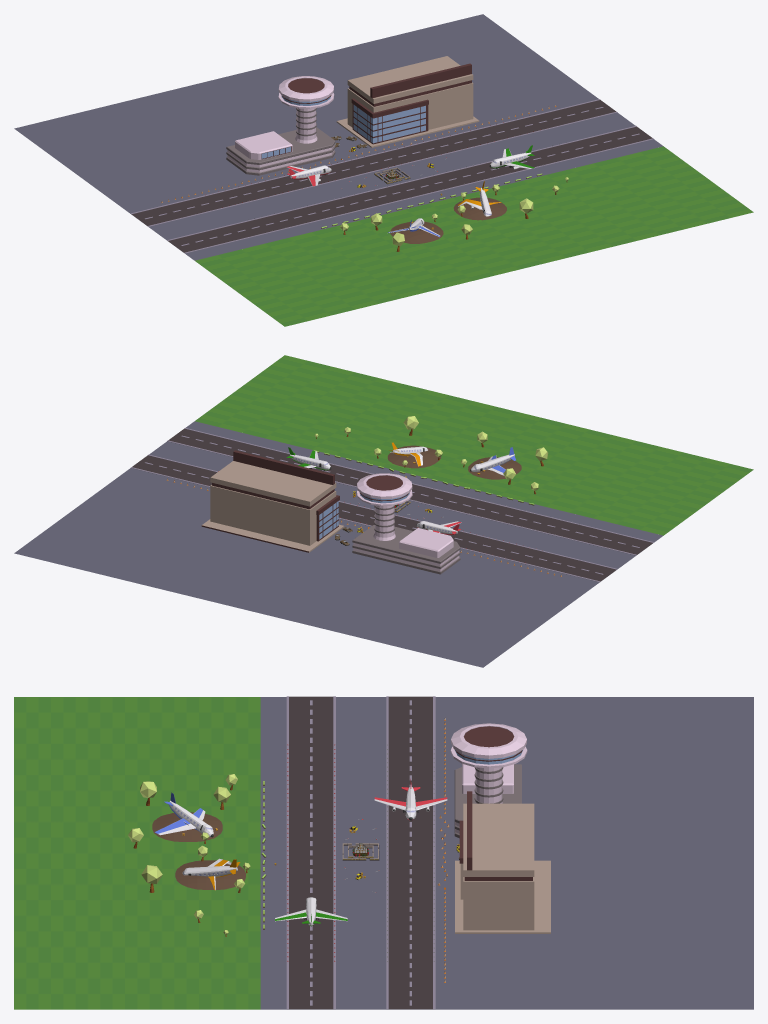
File: airport 1.fbx
The picture shows the model from 3 angles, top to bottom: view 1: azimuth 30°, elevation 25°; view 2: azimuth 150°, elevation 25°; view 3: azimuth 270°, elevation 25°; orthographic projection. The views are drawn at different scales.
Visible parts, largest first — view 1: Asphalt, Grass, Building2, TrafficSign.002, TrafficSign, Building, Plane.004, Plane.006, Plane.003, Plane; view 2: Asphalt, Grass, Building2, TrafficSign, Building, TrafficSign.002, Plane.006; view 3: Asphalt, Grass, TrafficSign, TrafficSign.002, Building2, Building, Plane.006, Plane.004, Plane.001, Plane, Plane.002, Plane.003.
Part boxes in pixels (bbox=[...]): Asphalt: bbox=[14, 14, 663, 260]; Grass: bbox=[195, 146, 753, 326]; Building2: bbox=[336, 56, 479, 147]; TrafficSign.002: bbox=[130, 99, 617, 226]; TrafficSign: bbox=[167, 126, 653, 253]; Building: bbox=[226, 76, 335, 175]; Plane.004: bbox=[390, 221, 443, 243]; Plane.006: bbox=[453, 197, 506, 220]; Plane.003: bbox=[489, 145, 534, 169]; Plane: bbox=[286, 165, 331, 186]; Asphalt: bbox=[14, 421, 663, 667]; Grass: bbox=[195, 355, 753, 535]; Building2: bbox=[201, 450, 344, 552]; TrafficSign: bbox=[167, 428, 653, 555]; Building: bbox=[352, 473, 460, 574]; TrafficSign.002: bbox=[131, 454, 617, 582]; Plane.006: bbox=[387, 445, 440, 468]; Asphalt: bbox=[260, 697, 753, 1009]; Grass: bbox=[14, 697, 260, 1009]; TrafficSign: bbox=[286, 696, 335, 1009]; TrafficSign.002: bbox=[386, 696, 435, 1009]; Building2: bbox=[455, 791, 550, 933]; Building: bbox=[450, 723, 527, 838]; Plane.006: bbox=[175, 860, 245, 889]; Plane.004: bbox=[152, 812, 222, 841]; Plane.001: bbox=[154, 792, 213, 837]; Plane: bbox=[374, 779, 447, 820]; Plane.002: bbox=[182, 858, 240, 890]; Plane.003: bbox=[275, 897, 347, 926].
Size of the model in its own units: 600 by 87.02 by 600.
64 materials, 3 textured.
